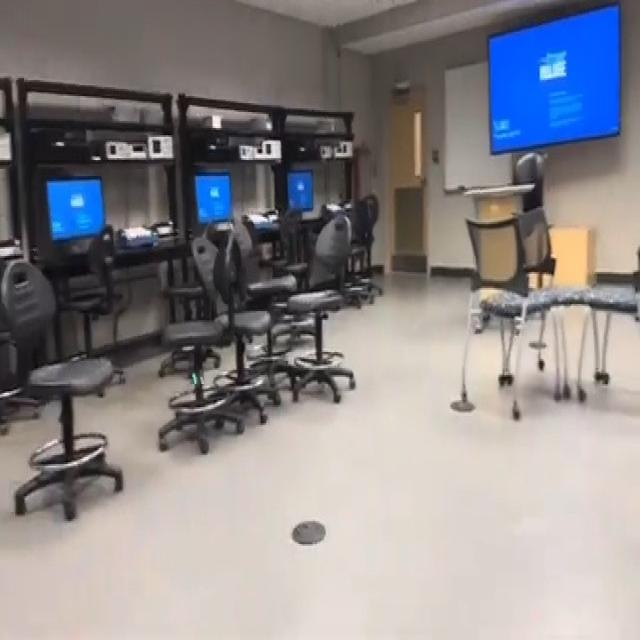drone: (181, 356, 215, 401)
